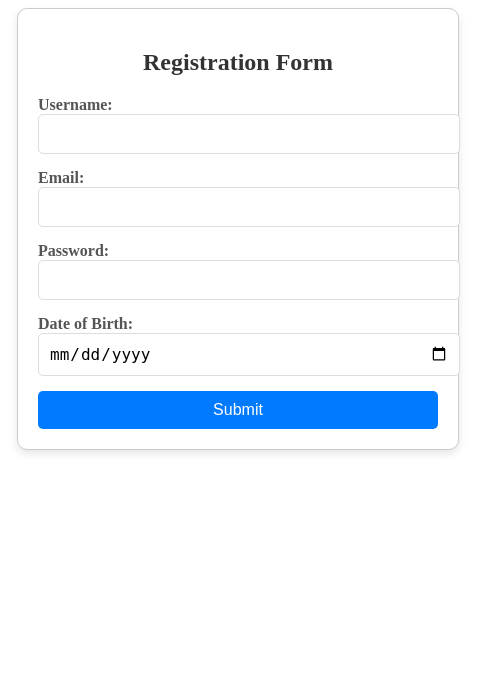
Test: Registration Form › customer is able to fill Registration form
The image size is (477, 677).
Expected: the heading "Registration Form" is shown, 143,49 -> 333,75
Step 1. Type "vardas" into the field named "username" below "Username:" → (249, 134), box 38,114 -> 460,154
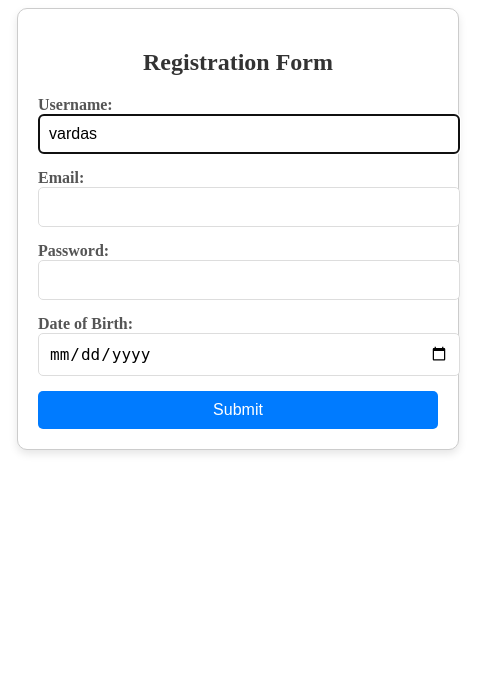
Step 2. Type "testas@testa.com" into the field named "email" below "Email:" → (249, 207), box 38,187 -> 460,227
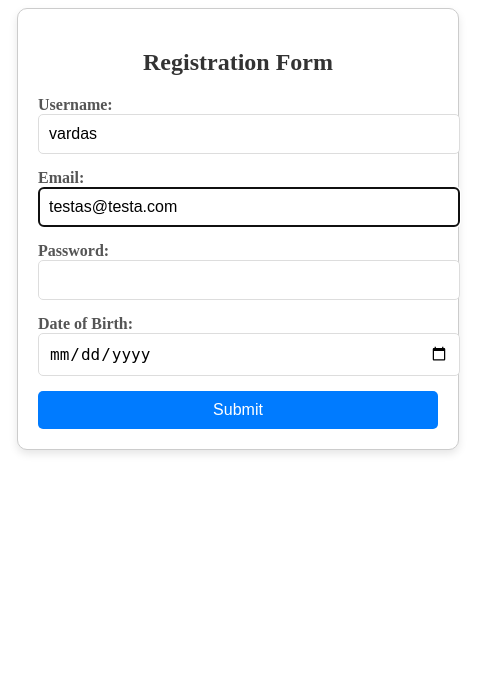
Step 3. Type "123456" into the password field named "password" → (249, 280), box 38,260 -> 460,300
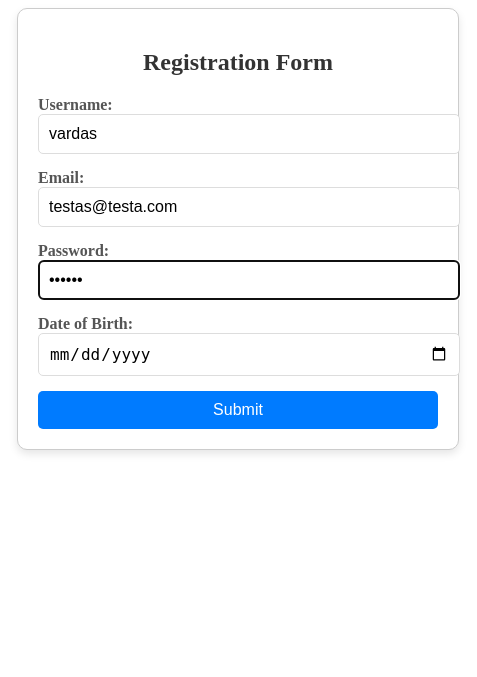
Step 4. Type "1985-01-09" into the date field with test id "dob-input" → (249, 355), box 38,333 -> 460,376
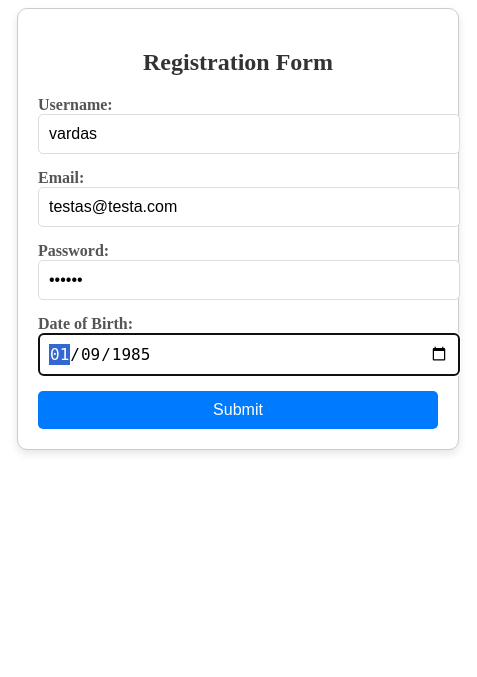
Step 5. Click the button "Submit" → (238, 410), box 38,391 -> 438,429
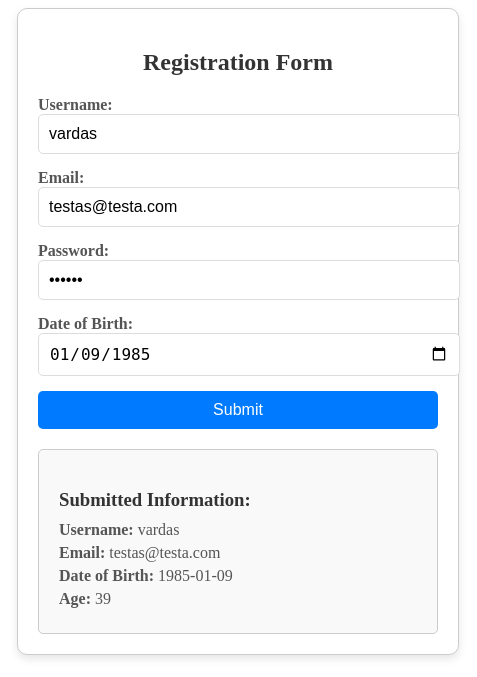
Expected: the text "39" is shown, 95,590 -> 111,607
